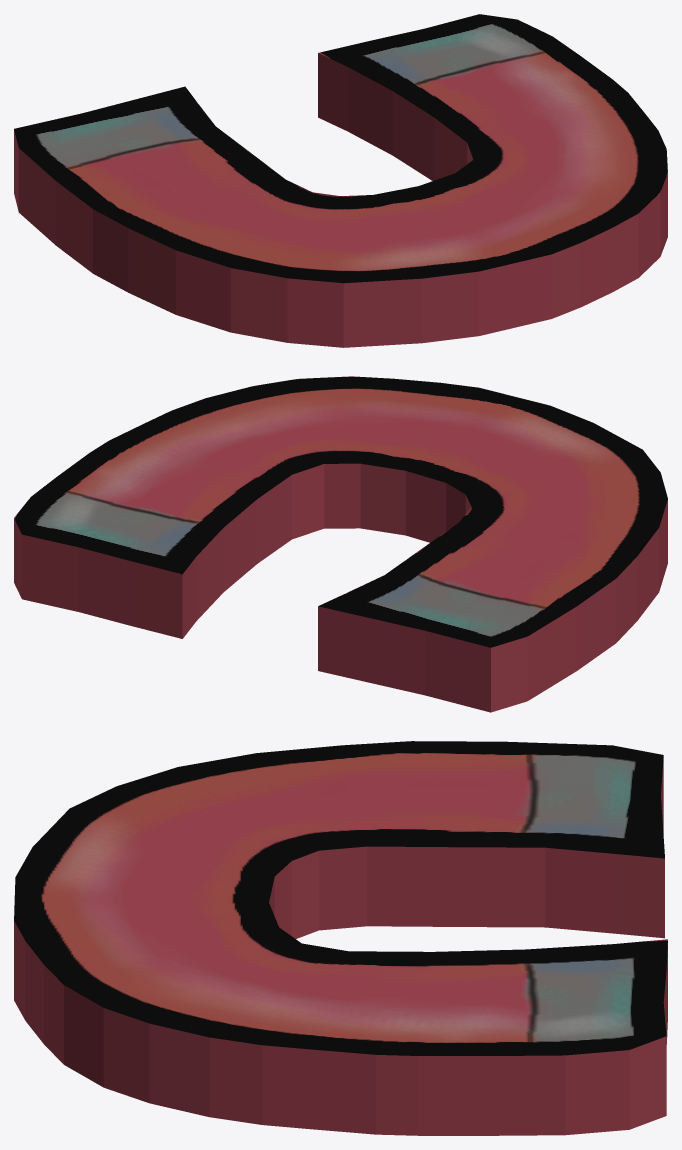
Rendered from Magnet.fbx.
The picture shows the model from 3 angles, top to bottom: view 1: azimuth 30°, elevation 25°; view 2: azimuth 150°, elevation 25°; view 3: azimuth 270°, elevation 25°; orthographic projection. The views are drawn at different scales.
Parts seen in each view (by area): view 1: Cube; view 2: Cube; view 3: Cube.
Part boxes in pixels (box(x1,y1,x2,y2)): Cube: box(14, 14, 667, 347); Cube: box(14, 376, 667, 712); Cube: box(14, 741, 667, 1135).
Bounding box in the file's own units: 807 × 95.31 × 708.
1 material, 1 textured.
